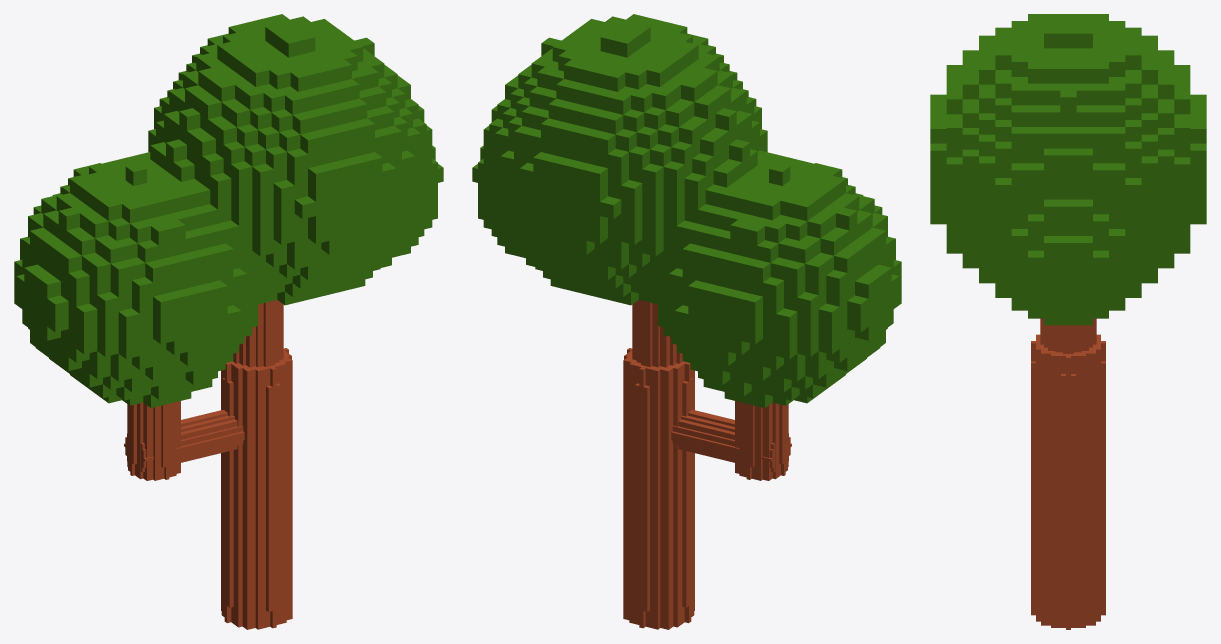
File: tree b.fbx
The picture shows the model from 3 angles, left to right: view 1: azimuth 30°, elevation 25°; view 2: azimuth 150°, elevation 25°; view 3: azimuth 270°, elevation 25°; orthographic projection. The views are drawn at different scales.
Parts seen in each view (by area): view 1: tree B lv; view 2: tree B lv; view 3: tree B lv.
Boxes of the visible parts, x1,y1,x2,y2 form: tree B lv: (14,14,443,629); tree B lv: (472,14,901,629); tree B lv: (930,14,1206,629).
Bounding box in the file's own units: 206 × 291 × 120.
